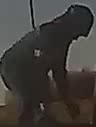vest: (0, 21, 73, 90)
